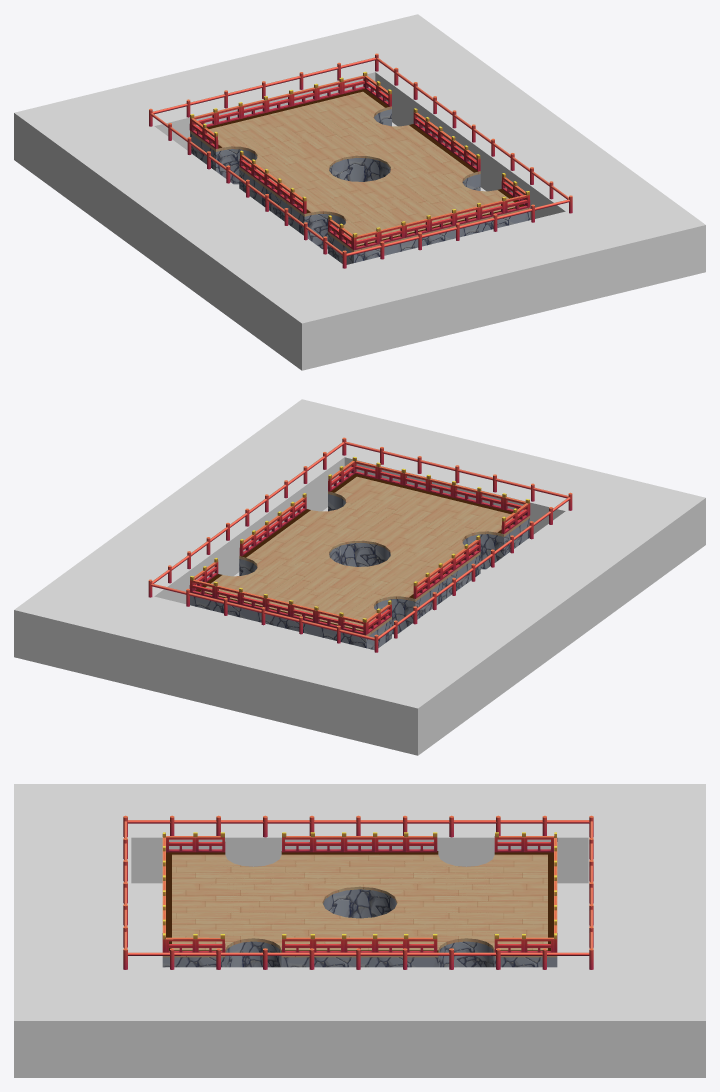
File: Duel_Stage 30.fbx
3 renders of one model, top to bottom at view 1: azimuth 30°, elevation 25°; view 2: azimuth 150°, elevation 25°; view 3: azimuth 270°, elevation 25°, orthographic. The views are drawn at different scales.
Parts seen in each view (by area): view 1: Plane_1.002, Plane_1, Cube.029, Cube.076, Plane_1.001; view 2: Plane_1.002, Plane_1, Cube.029, Cube.076, Plane_1.001; view 3: Plane_1.002, Plane_1, Cube.029, Cube.076, Plane_1.001.
Part boxes in pixels (x1=…): Plane_1.002: x1=14, y1=14, x2=705, y2=370; Plane_1: x1=190, y1=91, x2=529, y2=264; Cube.029: x1=189, y1=71, x2=530, y2=250; Cube.076: x1=149, y1=53, x2=572, y2=268; Plane_1.001: x1=195, y1=89, x2=524, y2=246; Plane_1.002: x1=14, y1=399, x2=705, y2=755; Plane_1: x1=190, y1=476, x2=529, y2=650; Cube.029: x1=189, y1=456, x2=530, y2=635; Cube.076: x1=148, y1=437, x2=572, y2=652; Plane_1.001: x1=195, y1=474, x2=524, y2=631; Plane_1.002: x1=14, y1=784, x2=705, y2=1077; Plane_1: x1=162, y1=854, x2=557, y2=967; Cube.029: x1=162, y1=832, x2=557, y2=952; Cube.076: x1=123, y1=815, x2=593, y2=969; Plane_1.001: x1=166, y1=851, x2=553, y2=952.
Size of the model in its own units: 8948 by 1346 by 11046.
